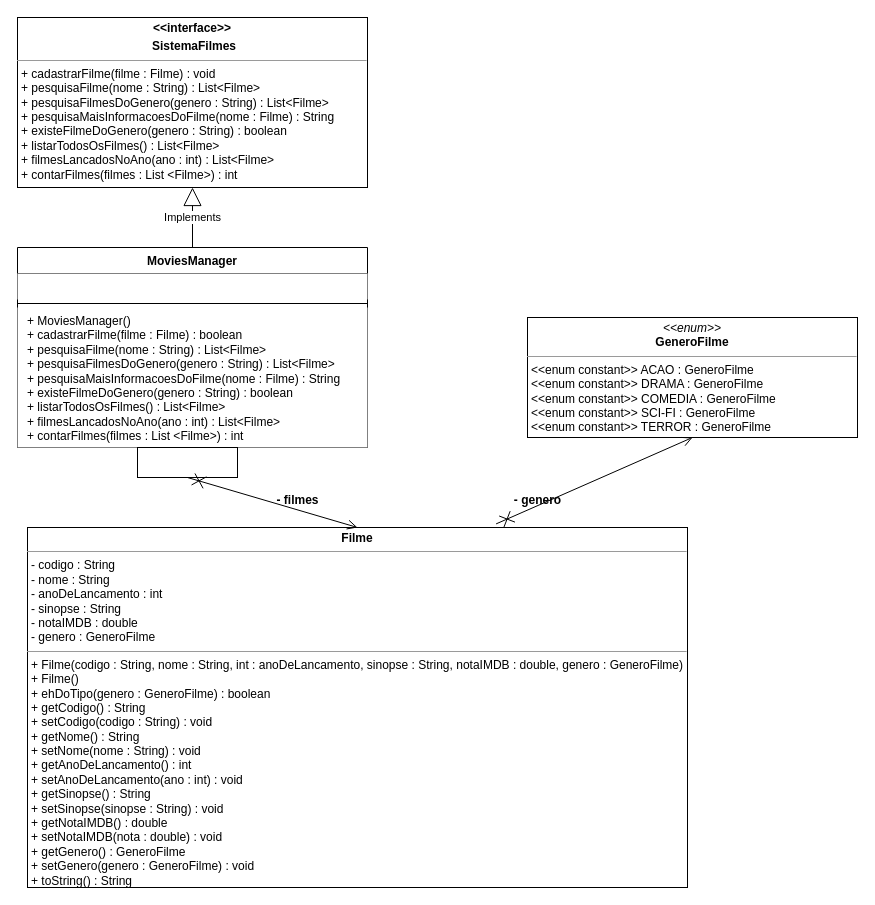
Image size: 875x905. Some labels were removed from this diagram. The shapes that lost their labels are listed below. From the top down, each one's centre as x and y in pixels, then its label:
At point (192, 286): "- filmes : Map<String, Filme>".
At point (187, 462): "key : String".
